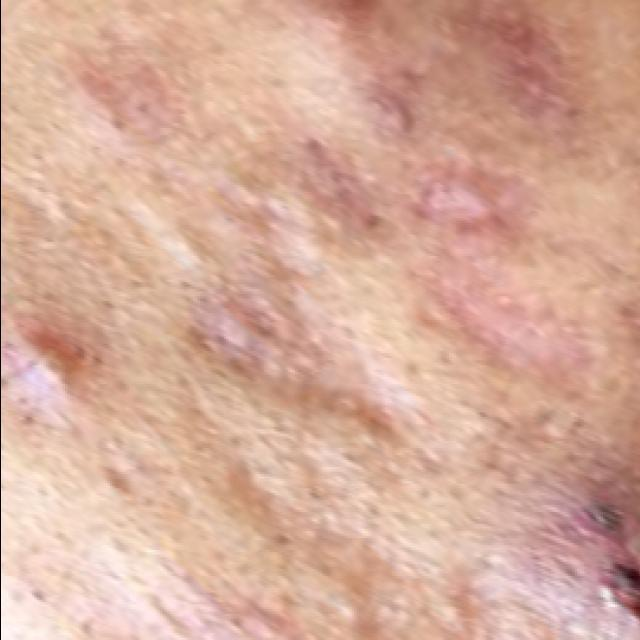acne: (486, 488, 640, 640), (175, 268, 313, 418), (0, 316, 105, 451), (336, 76, 434, 171)
